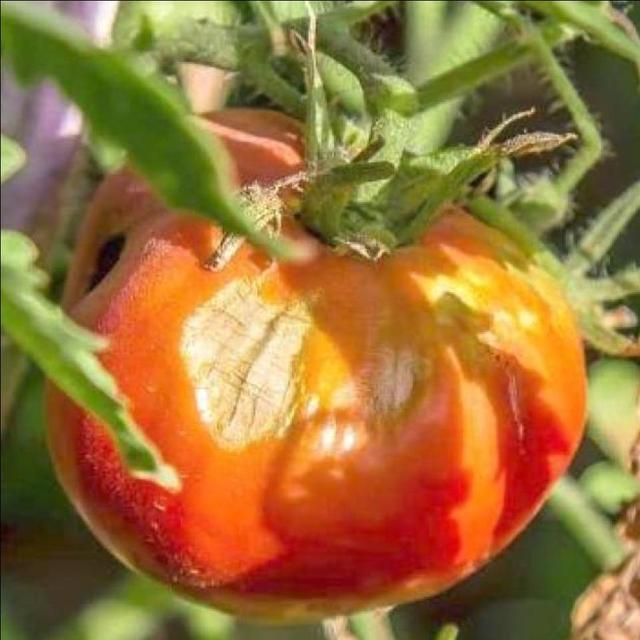Sunscald Fruit: (51, 64, 314, 252)
